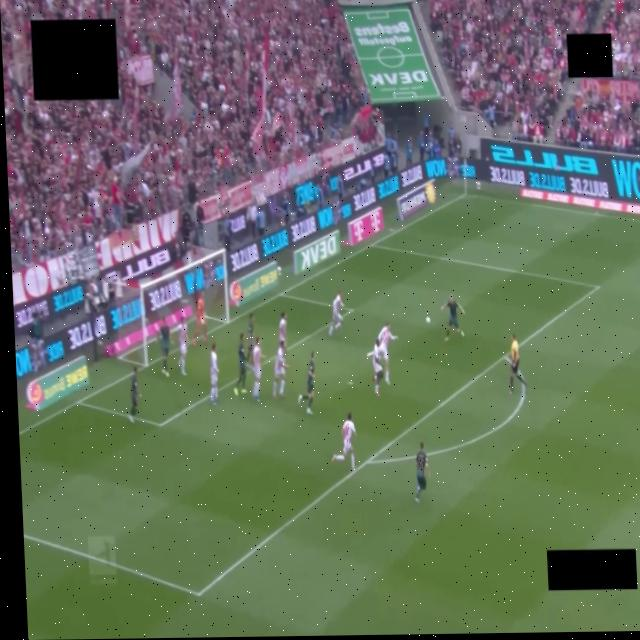ball: (425, 317, 430, 323)
player: (332, 413, 356, 470), (378, 322, 396, 385), (441, 295, 464, 340), (298, 352, 314, 414), (414, 442, 428, 503), (233, 333, 246, 396), (272, 342, 286, 397), (192, 293, 206, 346), (328, 291, 343, 335), (128, 367, 140, 422), (244, 313, 256, 363), (372, 339, 382, 397), (252, 337, 261, 401), (159, 322, 169, 376), (178, 317, 187, 375), (210, 343, 218, 404), (278, 312, 286, 344)
referee: (509, 335, 525, 393)
